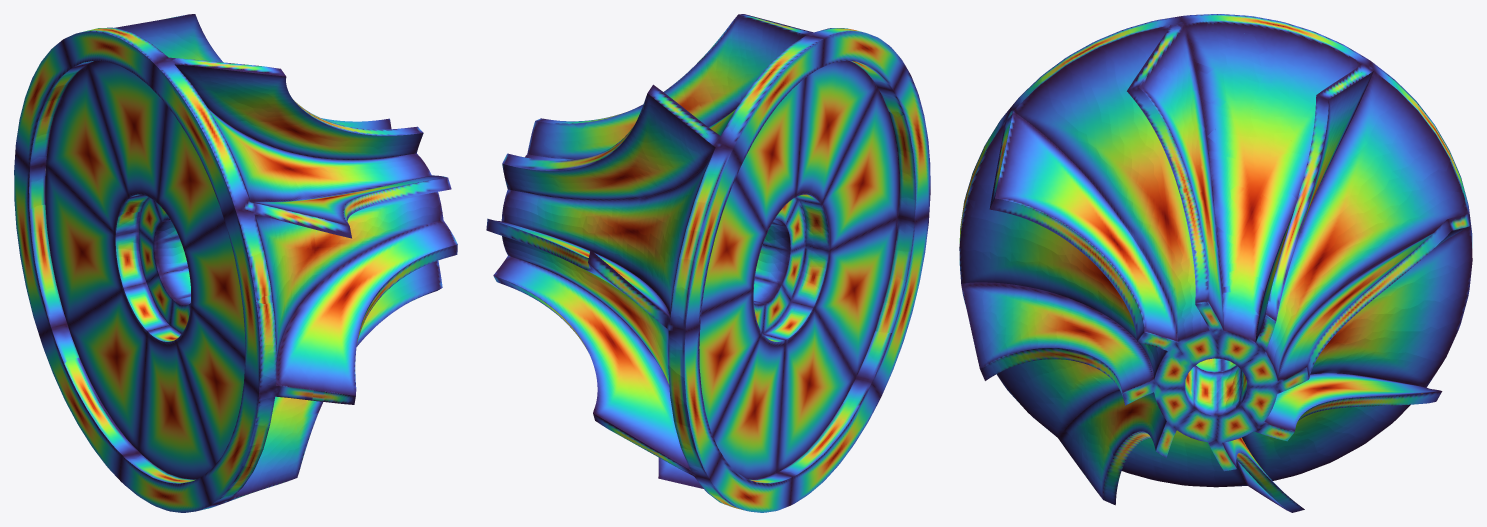
Rendered from gen2.glb.
3 views of the same model, side by side, from view 1: azimuth 30°, elevation 25°; view 2: azimuth 150°, elevation 25°; view 3: azimuth 270°, elevation 25° (orthographic). The views are drawn at different scales.
Visible parts, largest first — view 1: Node; view 2: Node; view 3: Node.
Boxes of the visible parts, x1,y1,x2,y2 form: Node: (14,14,457,512); Node: (486,14,930,512); Node: (959,14,1472,512).
Bounding box in the file's own units: 1.29 × 2 × 2.
Materials: 1 (1 with a texture image).
